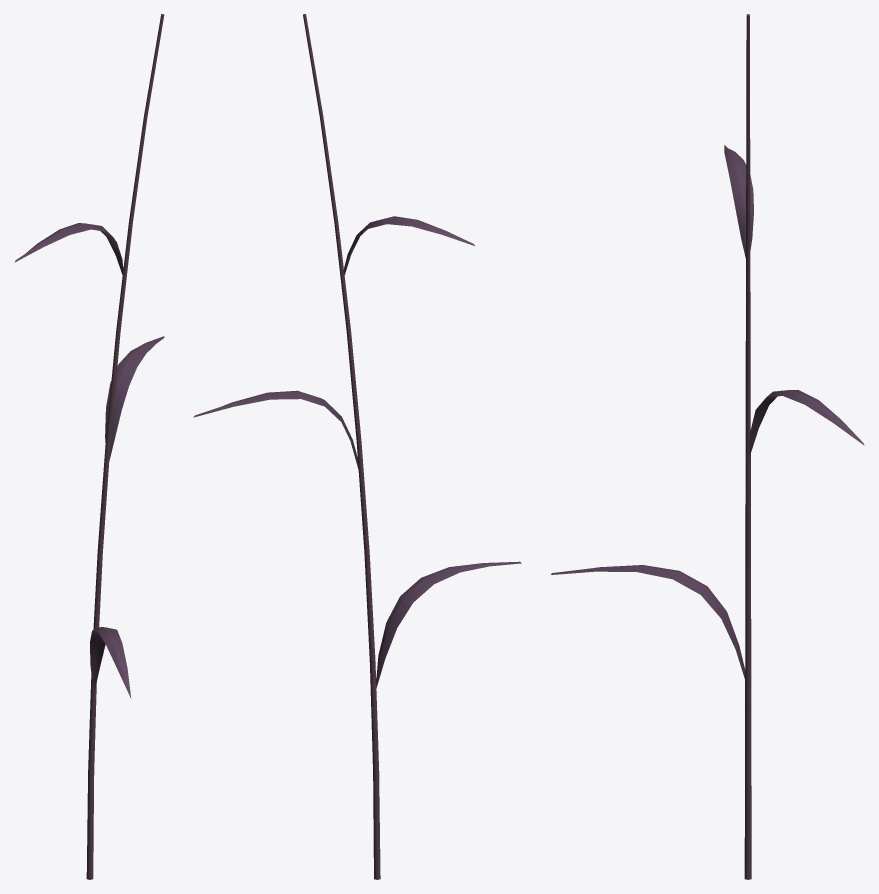
File: single_stem_01.glb
3 views of the same model, side by side, from view 1: azimuth 30°, elevation 25°; view 2: azimuth 150°, elevation 25°; view 3: azimuth 270°, elevation 25° (orthographic). The views are drawn at different scales.
Visible parts, largest first — view 1: export; view 2: export; view 3: export.
Boxes of the visible parts, bbox=[...] form: export: bbox=[14, 14, 164, 879]; export: bbox=[193, 14, 521, 879]; export: bbox=[551, 14, 864, 879].
Size of the model in its own units: 0.2676 by 1 by 0.3162.
2 materials, 2 textured.
